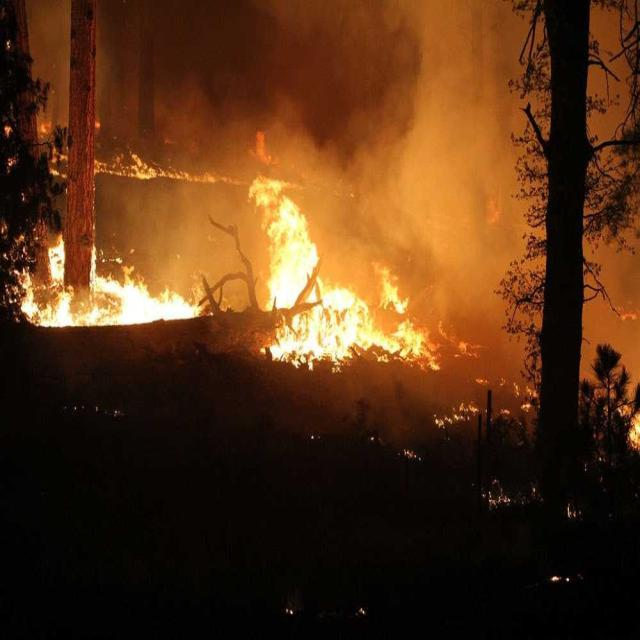Fire: (248, 175, 424, 374), (22, 220, 203, 335)
